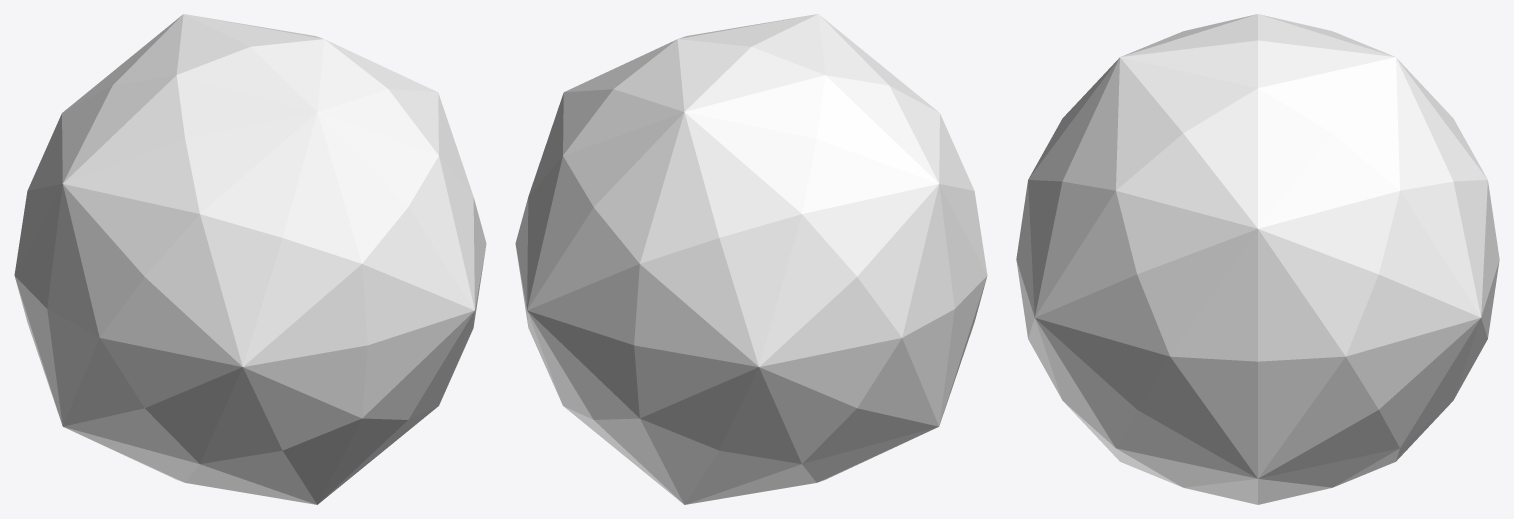
Rendered from disdyakis-triacontahedron.gltf.
3 views of the same model, side by side, from view 1: azimuth 30°, elevation 25°; view 2: azimuth 150°, elevation 25°; view 3: azimuth 270°, elevation 25° (orthographic). The views are drawn at different scales.
Visible parts, largest first — view 1: Disdyakistriaconta; view 2: Disdyakistriaconta; view 3: Disdyakistriaconta.
Boxes of the visible parts, x1,y1,x2,y2 form: Disdyakistriaconta: (14, 14, 486, 504); Disdyakistriaconta: (515, 14, 987, 504); Disdyakistriaconta: (1016, 14, 1499, 504).
Size of the model in its own units: 10 by 10 by 10.
1 material, 1 textured.
